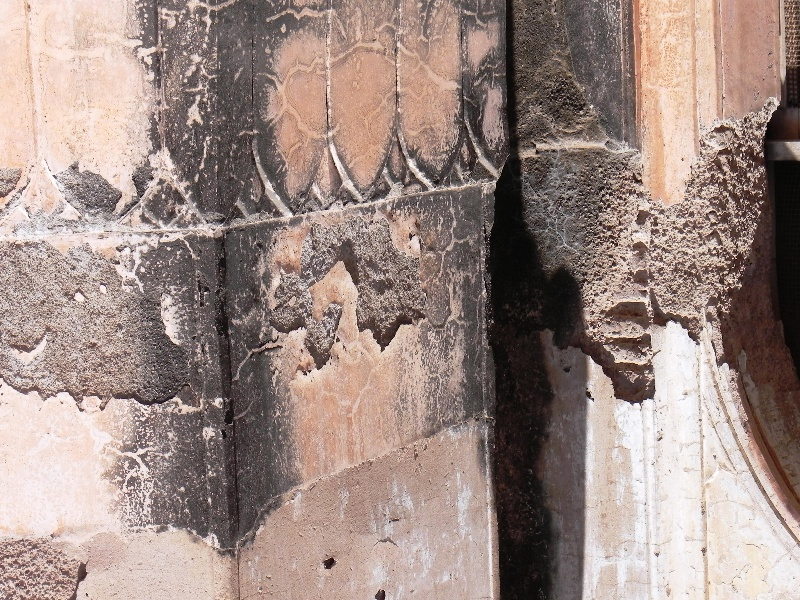Exposed Bricks: (595, 222, 656, 398)
Spalling: (1, 220, 204, 416), (653, 97, 785, 349), (265, 219, 435, 370)
